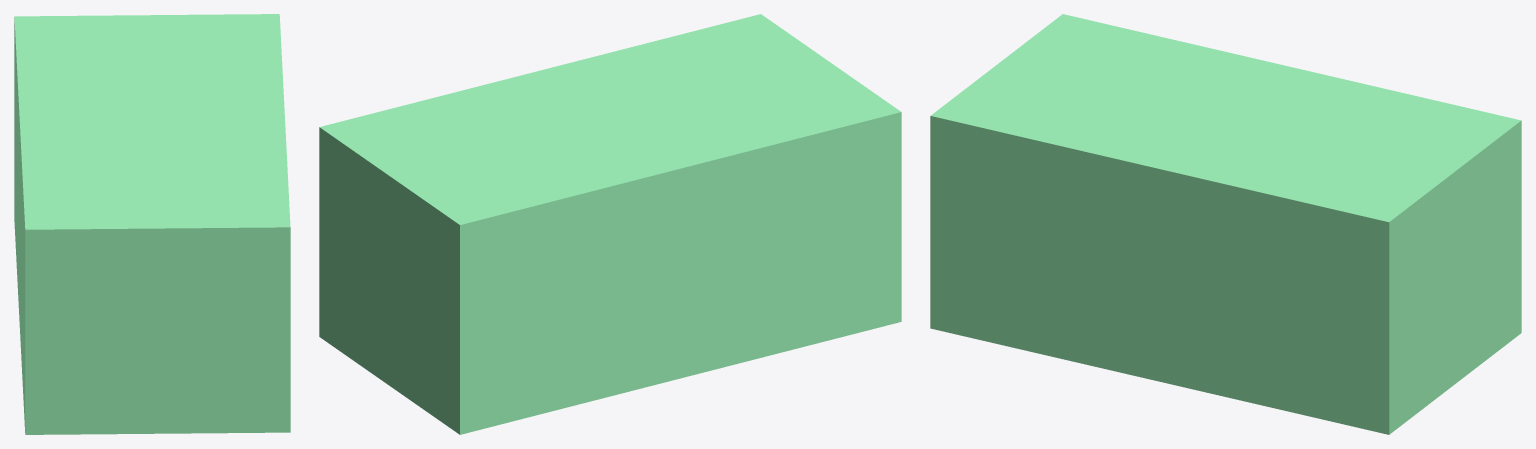
File: food_supply_box_fbx.fbx
3 views of the same model, side by side, from view 1: azimuth 30°, elevation 25°; view 2: azimuth 150°, elevation 25°; view 3: azimuth 270°, elevation 25° (orthographic). The views are drawn at different scales.
Parts seen in each view (by area): view 1: Cube; view 2: Cube; view 3: Cube.
Boxes of the visible parts, x1,y1,x2,y2 form: Cube: (14, 14, 290, 434); Cube: (319, 14, 901, 434); Cube: (930, 14, 1521, 434).
Size of the model in its own units: 1.09 by 0.5197 by 1.31.
